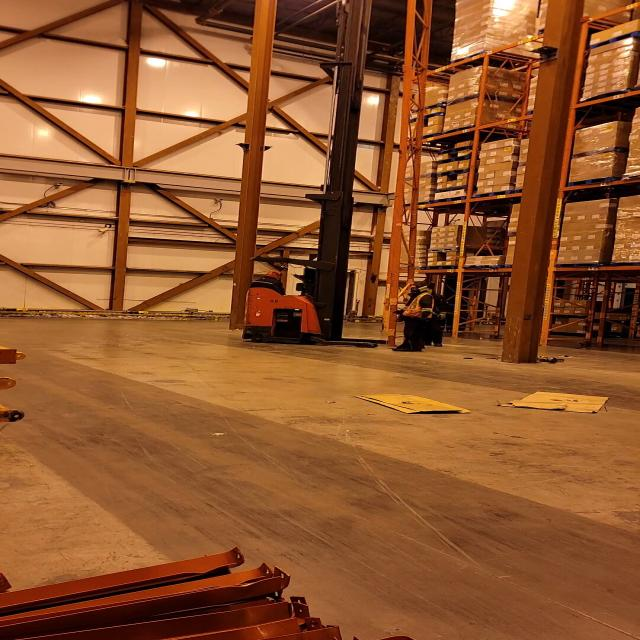forklift: (234, 192, 394, 351)
human: (393, 284, 441, 356), (412, 276, 449, 348), (250, 265, 287, 295)
objectofinterest: (377, 7, 442, 345), (345, 392, 481, 418), (493, 388, 614, 416)
